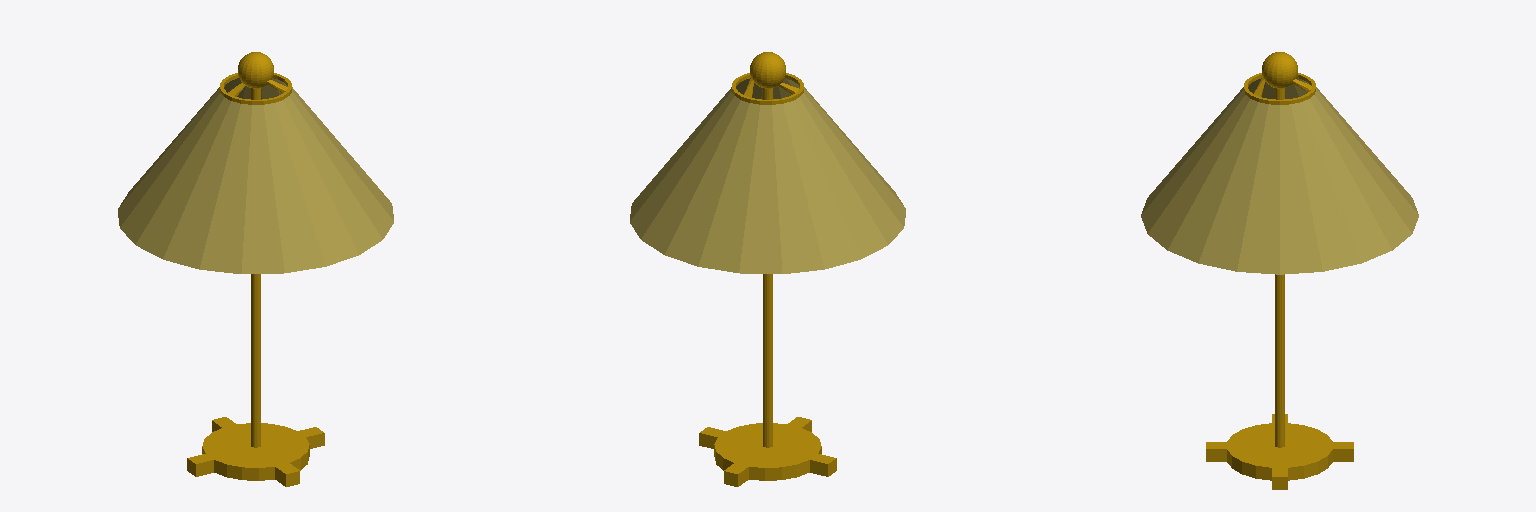
File: Lamp2UVmap(real).obj
3 views of the same model, side by side, from view 1: azimuth 30°, elevation 25°; view 2: azimuth 150°, elevation 25°; view 3: azimuth 270°, elevation 25° (orthographic).
Visible parts, largest first — view 1: FancyLamp; view 2: FancyLamp; view 3: FancyLamp.
Part boxes in pixels (left/top/right/bottom): FancyLamp: left=118, top=52, right=393, bottom=486; FancyLamp: left=630, top=52, right=905, bottom=486; FancyLamp: left=1141, top=52, right=1418, bottom=489.
Size of the model in its own units: 85.65 by 137 by 85.65.